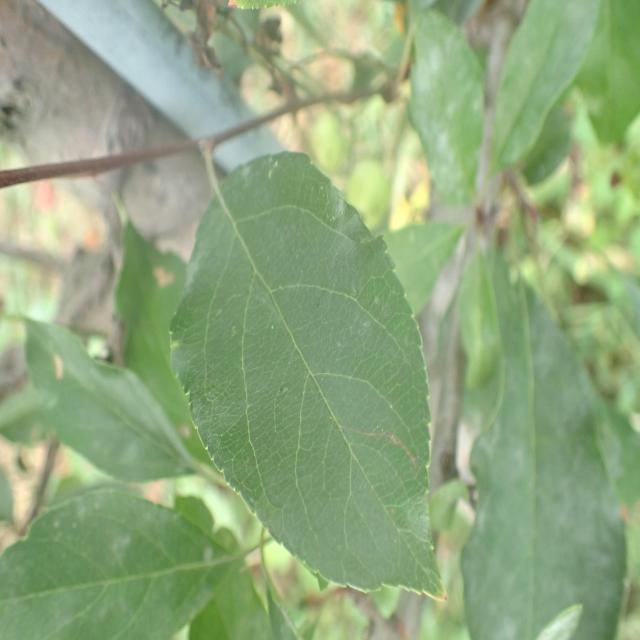Powdery_mildew: (168, 150, 431, 594), (470, 291, 638, 640)
